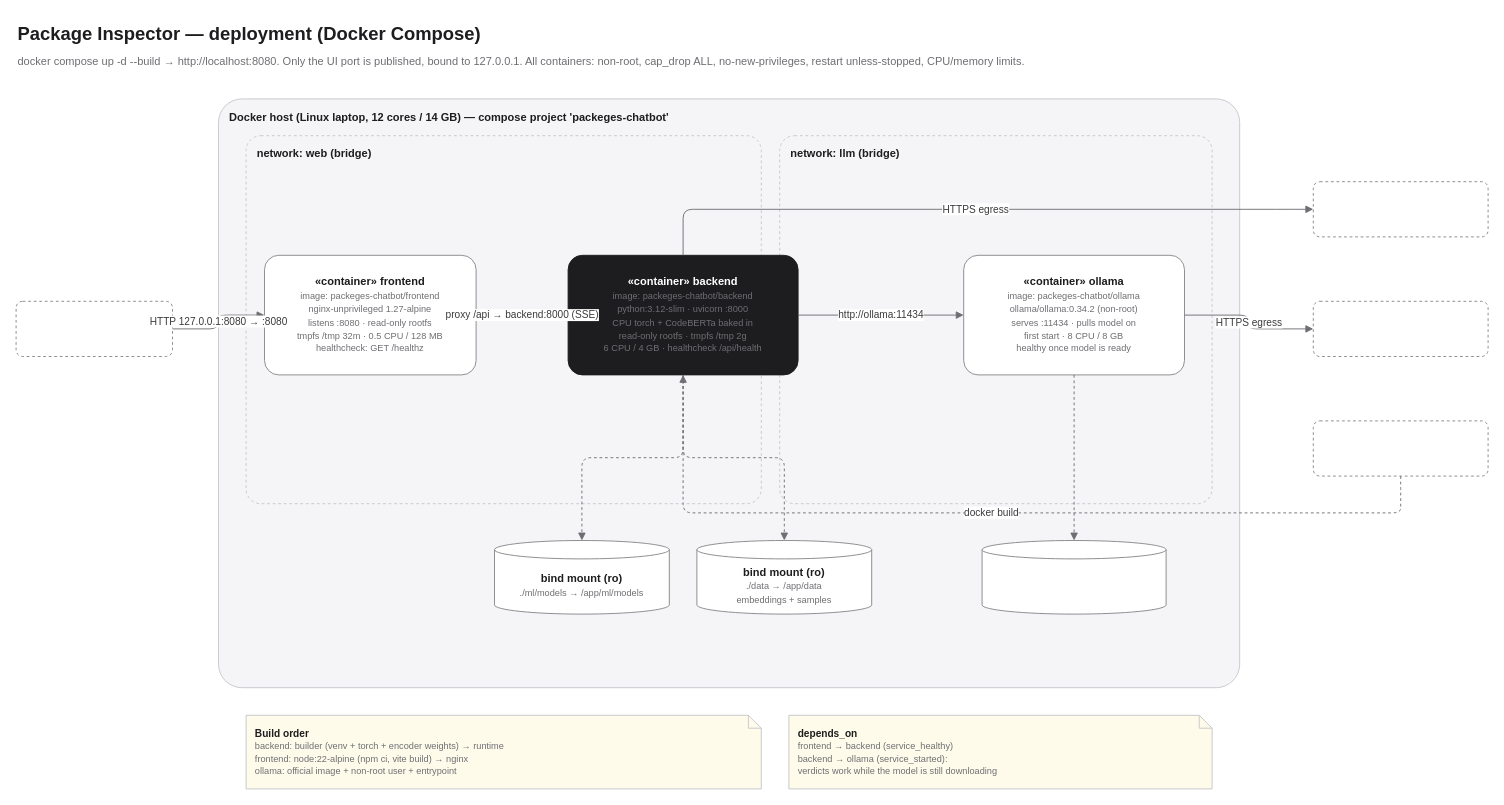
This 1504x805 diagram has some shape labels left out. The centre of each missing label's shape, as x and y in pixels:
"Docker Hub / PyTorch index / HF build-time only" belongs at (x=1400, y=448).
"pypi.org package metadata + sdists" belongs at (x=1400, y=209).
"registry.ollama.ai model pull (first start)" belongs at (x=1400, y=328).
"volume: ollama-models /models · qwen3.5:4b (~3.4 GB)" belongs at (x=1073, y=577).
"Web browser developer workstation" belongs at (x=93, y=328).
